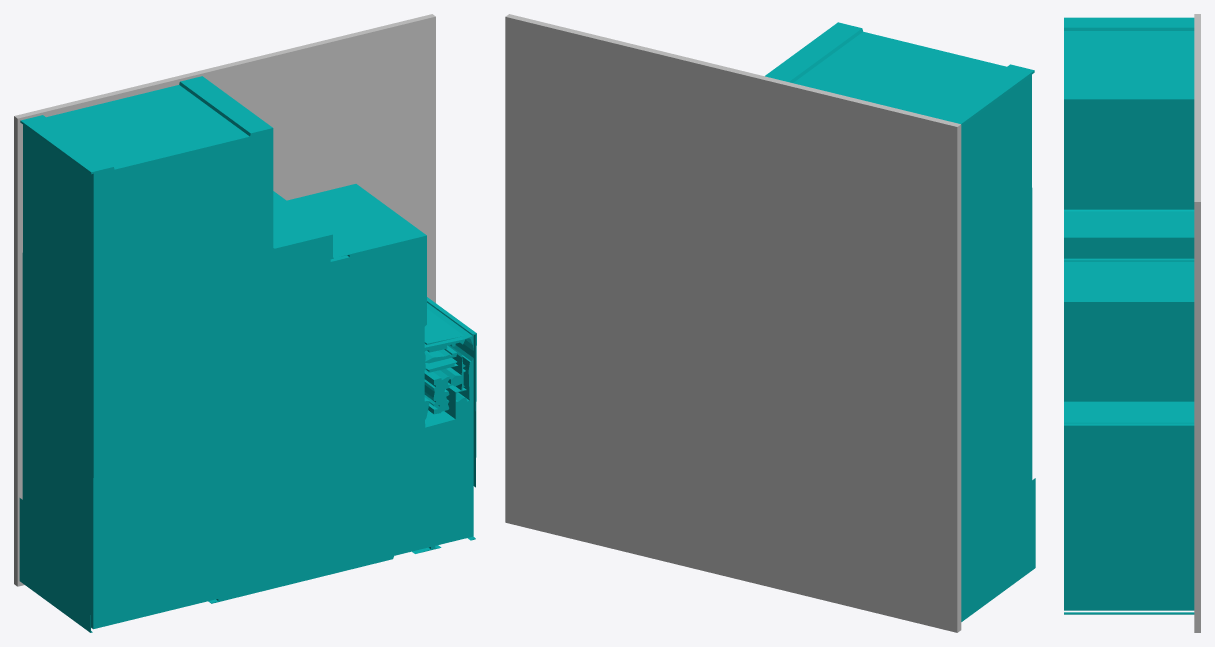
3 views of the same model, side by side, from view 1: azimuth 30°, elevation 25°; view 2: azimuth 150°, elevation 25°; view 3: azimuth 270°, elevation 25° (orthographic). The views are drawn at different scales.
Parts seen in each view (by area): view 1: world; view 2: world; view 3: world.
Part boxes in pixels (x1,y1,x2,y2): world: (14, 14, 476, 632); world: (505, 14, 1035, 632); world: (1064, 14, 1200, 632).
Size of the model in its own units: 10.23 by 10.94 by 3.15.
